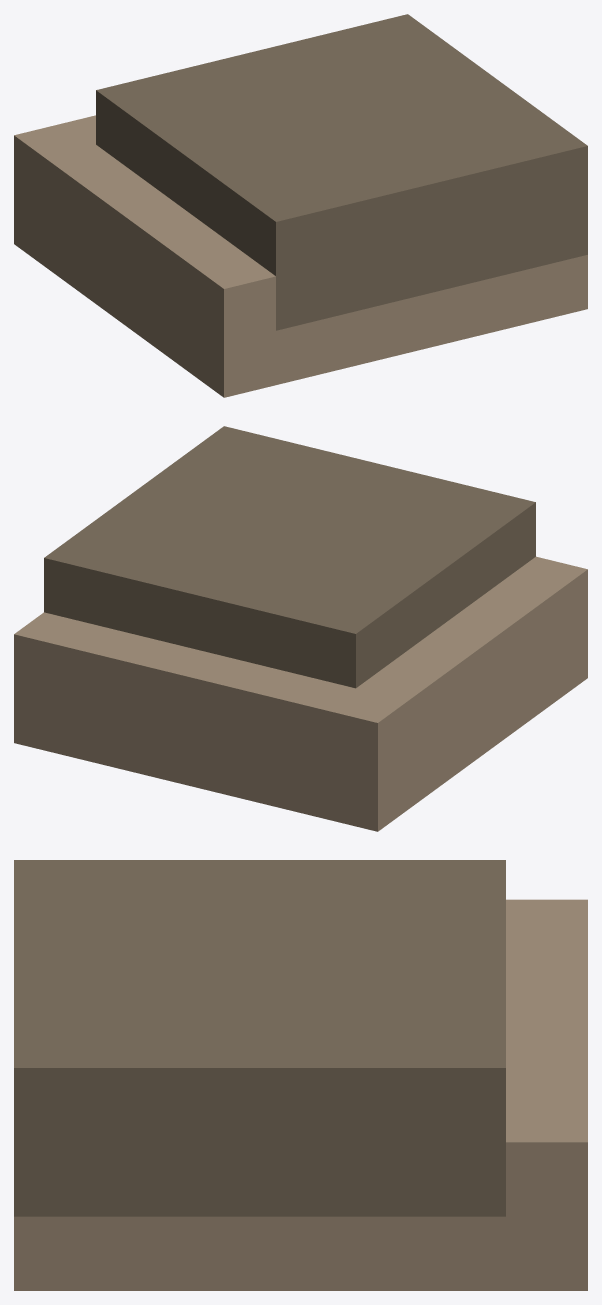
The model's file is semillero_bandeja_01.glb.
3 renders of one model, top to bottom at view 1: azimuth 30°, elevation 25°; view 2: azimuth 150°, elevation 25°; view 3: azimuth 270°, elevation 25°, orthographic. The views are drawn at different scales.
Parts seen in each view (by area): view 1: semillero_bandeja; view 2: semillero_bandeja; view 3: semillero_bandeja.
Boxes of the visible parts, x1,y1,x2,y2 form: semillero_bandeja: (14, 14, 587, 397); semillero_bandeja: (14, 426, 587, 831); semillero_bandeja: (14, 860, 587, 1290).
Size of the model in its own units: 0.7 by 0.3 by 0.7.
